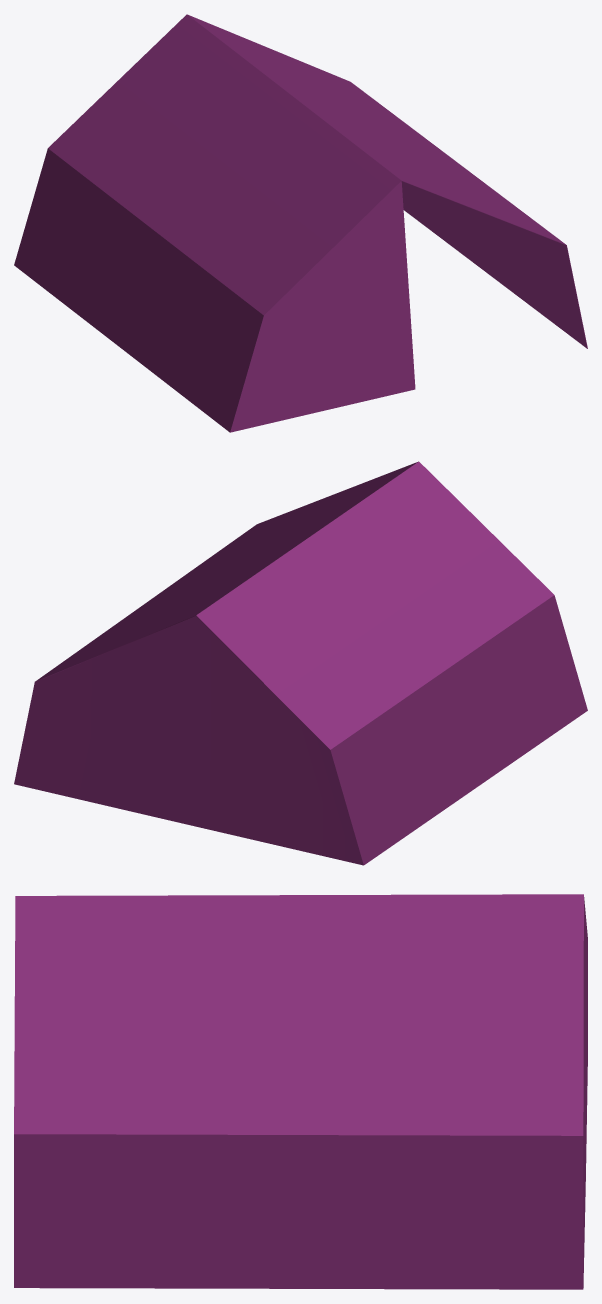
File: tente 1970Z.fbx
3 renders of one model, top to bottom at view 1: azimuth 30°, elevation 25°; view 2: azimuth 150°, elevation 25°; view 3: azimuth 270°, elevation 25°, orthographic. The views are drawn at different scales.
Visible parts, largest first — view 1: Tente militaire; view 2: Tente militaire; view 3: Tente militaire.
Part boxes in pixels (x1,y1,x2,y2): Tente militaire: (14,14,587,432); Tente militaire: (14,461,587,865); Tente militaire: (14,894,587,1289).
Size of the model in its own units: 4.42 by 2.54 by 4.71.
